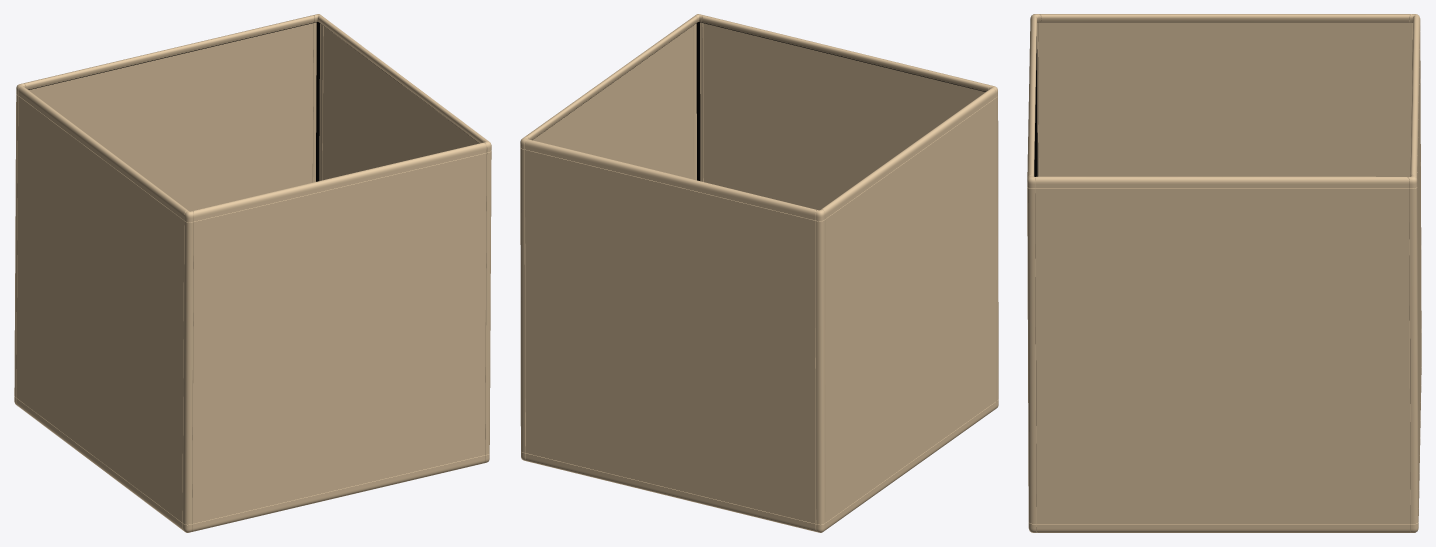
File: mampara.obj
3 renders of one model, left to right at view 1: azimuth 30°, elevation 25°; view 2: azimuth 150°, elevation 25°; view 3: azimuth 270°, elevation 25°, orthographic. The views are drawn at different scales.
Parts seen in each view (by area): view 1: mampara:polySurface108; view 2: mampara:polySurface108; view 3: mampara:polySurface108.
Part boxes in pixels (x1,y1,x2,y2): mampara:polySurface108: [14, 14, 491, 532]; mampara:polySurface108: [520, 14, 998, 532]; mampara:polySurface108: [1027, 14, 1421, 532].
Size of the model in its own units: 0.9512 by 0.955 by 0.9516.
4 materials, 2 textured.
